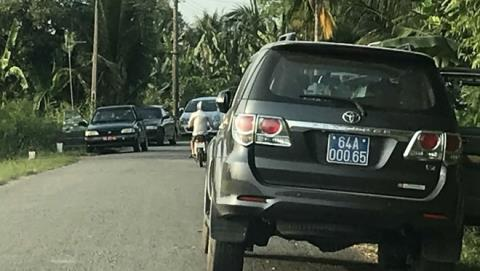plate: (322, 128, 371, 166)
